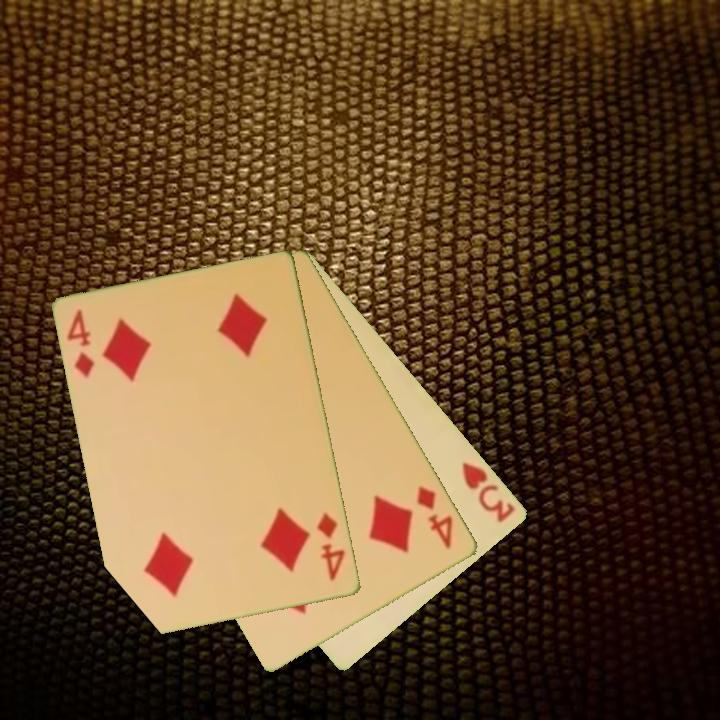3h: (459, 458, 519, 526)
4d: (413, 482, 457, 551), (64, 306, 98, 381), (314, 510, 348, 584)
